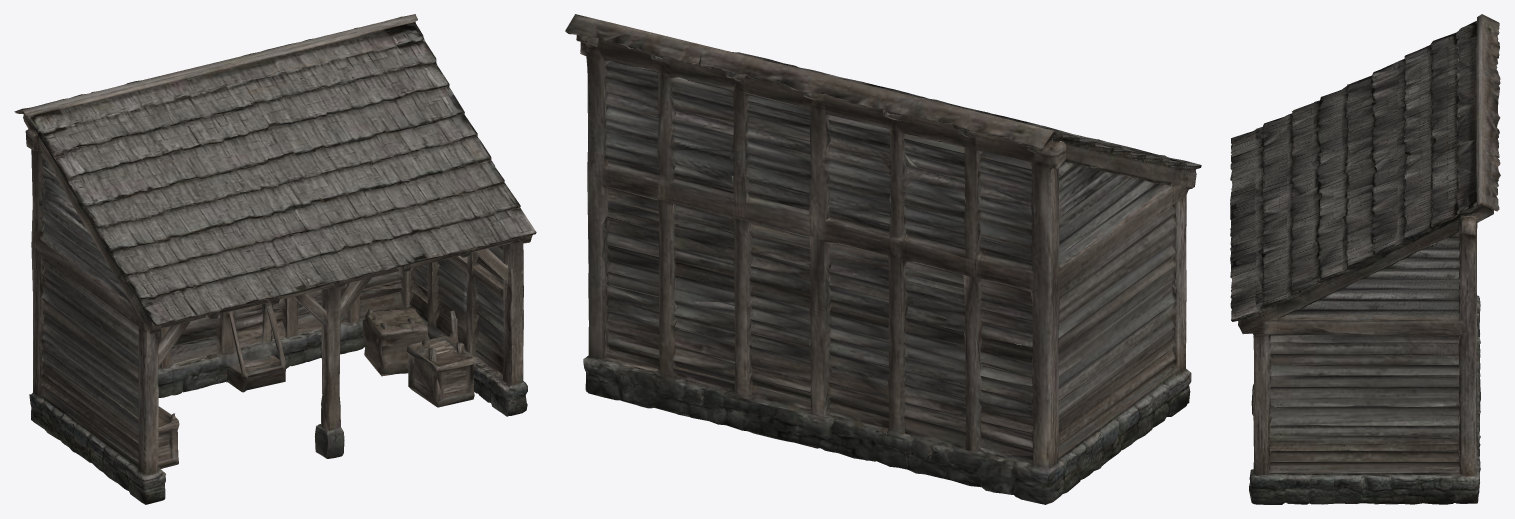
Rendered from infill-lean-to.glb.
3 renders of one model, left to right at view 1: azimuth 30°, elevation 25°; view 2: azimuth 150°, elevation 25°; view 3: azimuth 270°, elevation 25°, orthographic. The views are drawn at different scales.
Visible parts, largest first — view 1: Mesh_0; view 2: Mesh_0; view 3: Mesh_0.
Part boxes in pixels (x1,y1,x2,y2): Mesh_0: (14,14,536,504); Mesh_0: (565,14,1201,504); Mesh_0: (1230,14,1500,504).
Size of the model in its own units: 1.9 by 1.45 by 1.15.
1 material, 1 textured.
